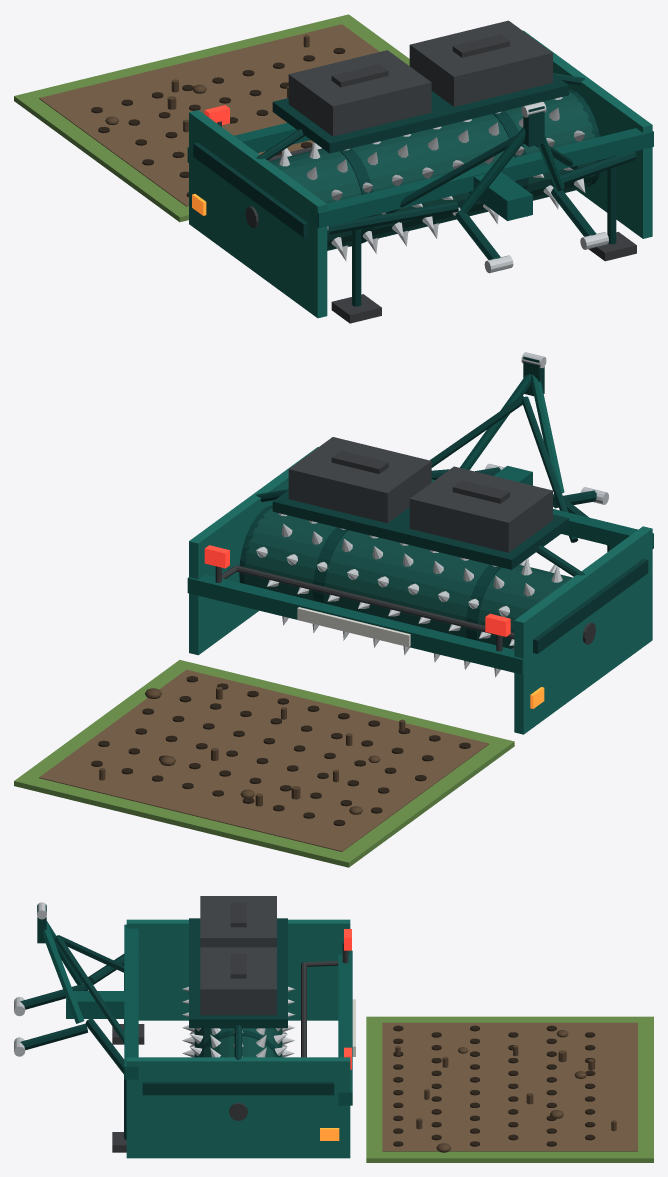
File: plug_aerator.glb
3 renders of one model, top to bottom at view 1: azimuth 30°, elevation 25°; view 2: azimuth 150°, elevation 25°; view 3: azimuth 270°, elevation 25°, orthographic. The views are drawn at different scales.
Parts seen in each view (by area): view 1: AeratorBody, AeratorProps, AeratorDrum; view 2: AeratorBody, AeratorProps, AeratorDrum; view 3: AeratorBody, AeratorProps, AeratorDrum.
Boxes of the visible parts, bbox=[...] form: AeratorBody: bbox=[187, 20, 653, 323]; AeratorProps: bbox=[14, 14, 409, 222]; AeratorDrum: bbox=[269, 89, 601, 261]; AeratorBody: bbox=[187, 352, 653, 734]; AeratorProps: bbox=[14, 660, 514, 867]; AeratorDrum: bbox=[239, 505, 572, 677]; AeratorBody: bbox=[14, 896, 355, 1158]; AeratorProps: bbox=[366, 1016, 653, 1162]; AeratorDrum: bbox=[182, 986, 294, 1057].
Bounding box in the file's own units: 2.16 × 1.28 × 4.
